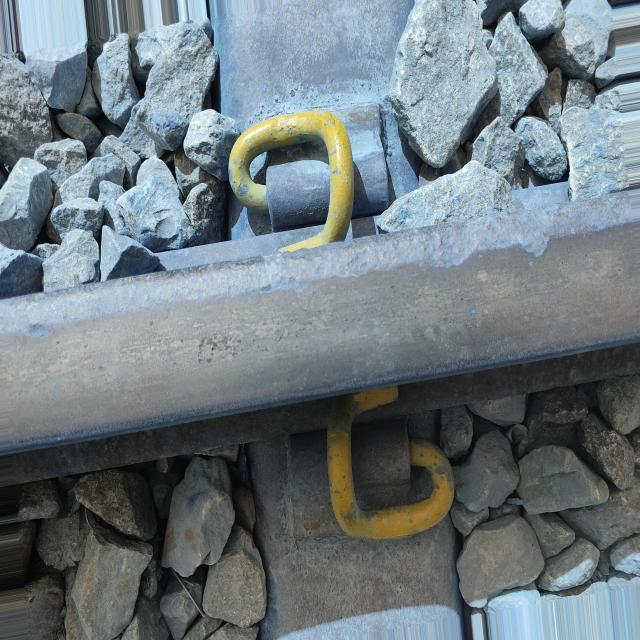Good Fasteners: (288, 382, 455, 546), (229, 104, 392, 251)
